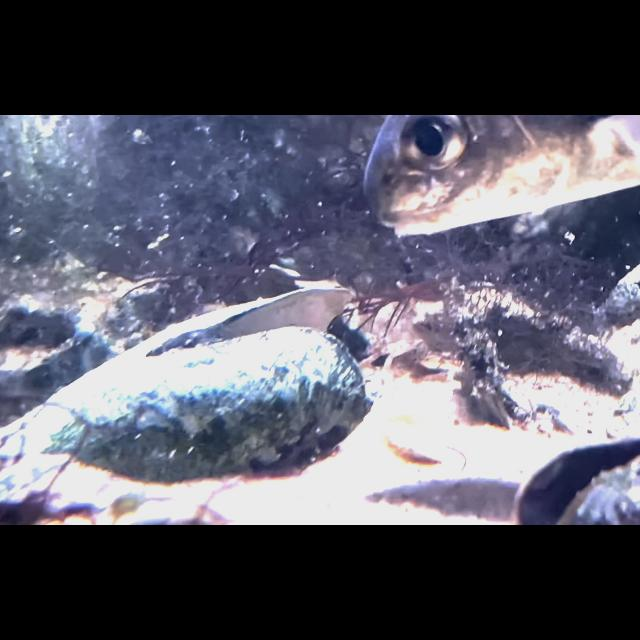Oyster-Closed: (600, 260, 640, 330)
Oyster-Open: (36, 278, 370, 486), (508, 436, 640, 526)
